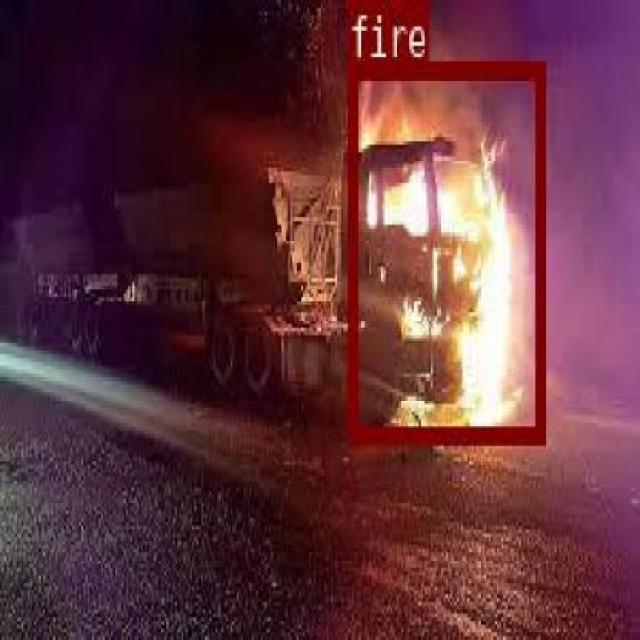Fire: (346, 61, 544, 441)
